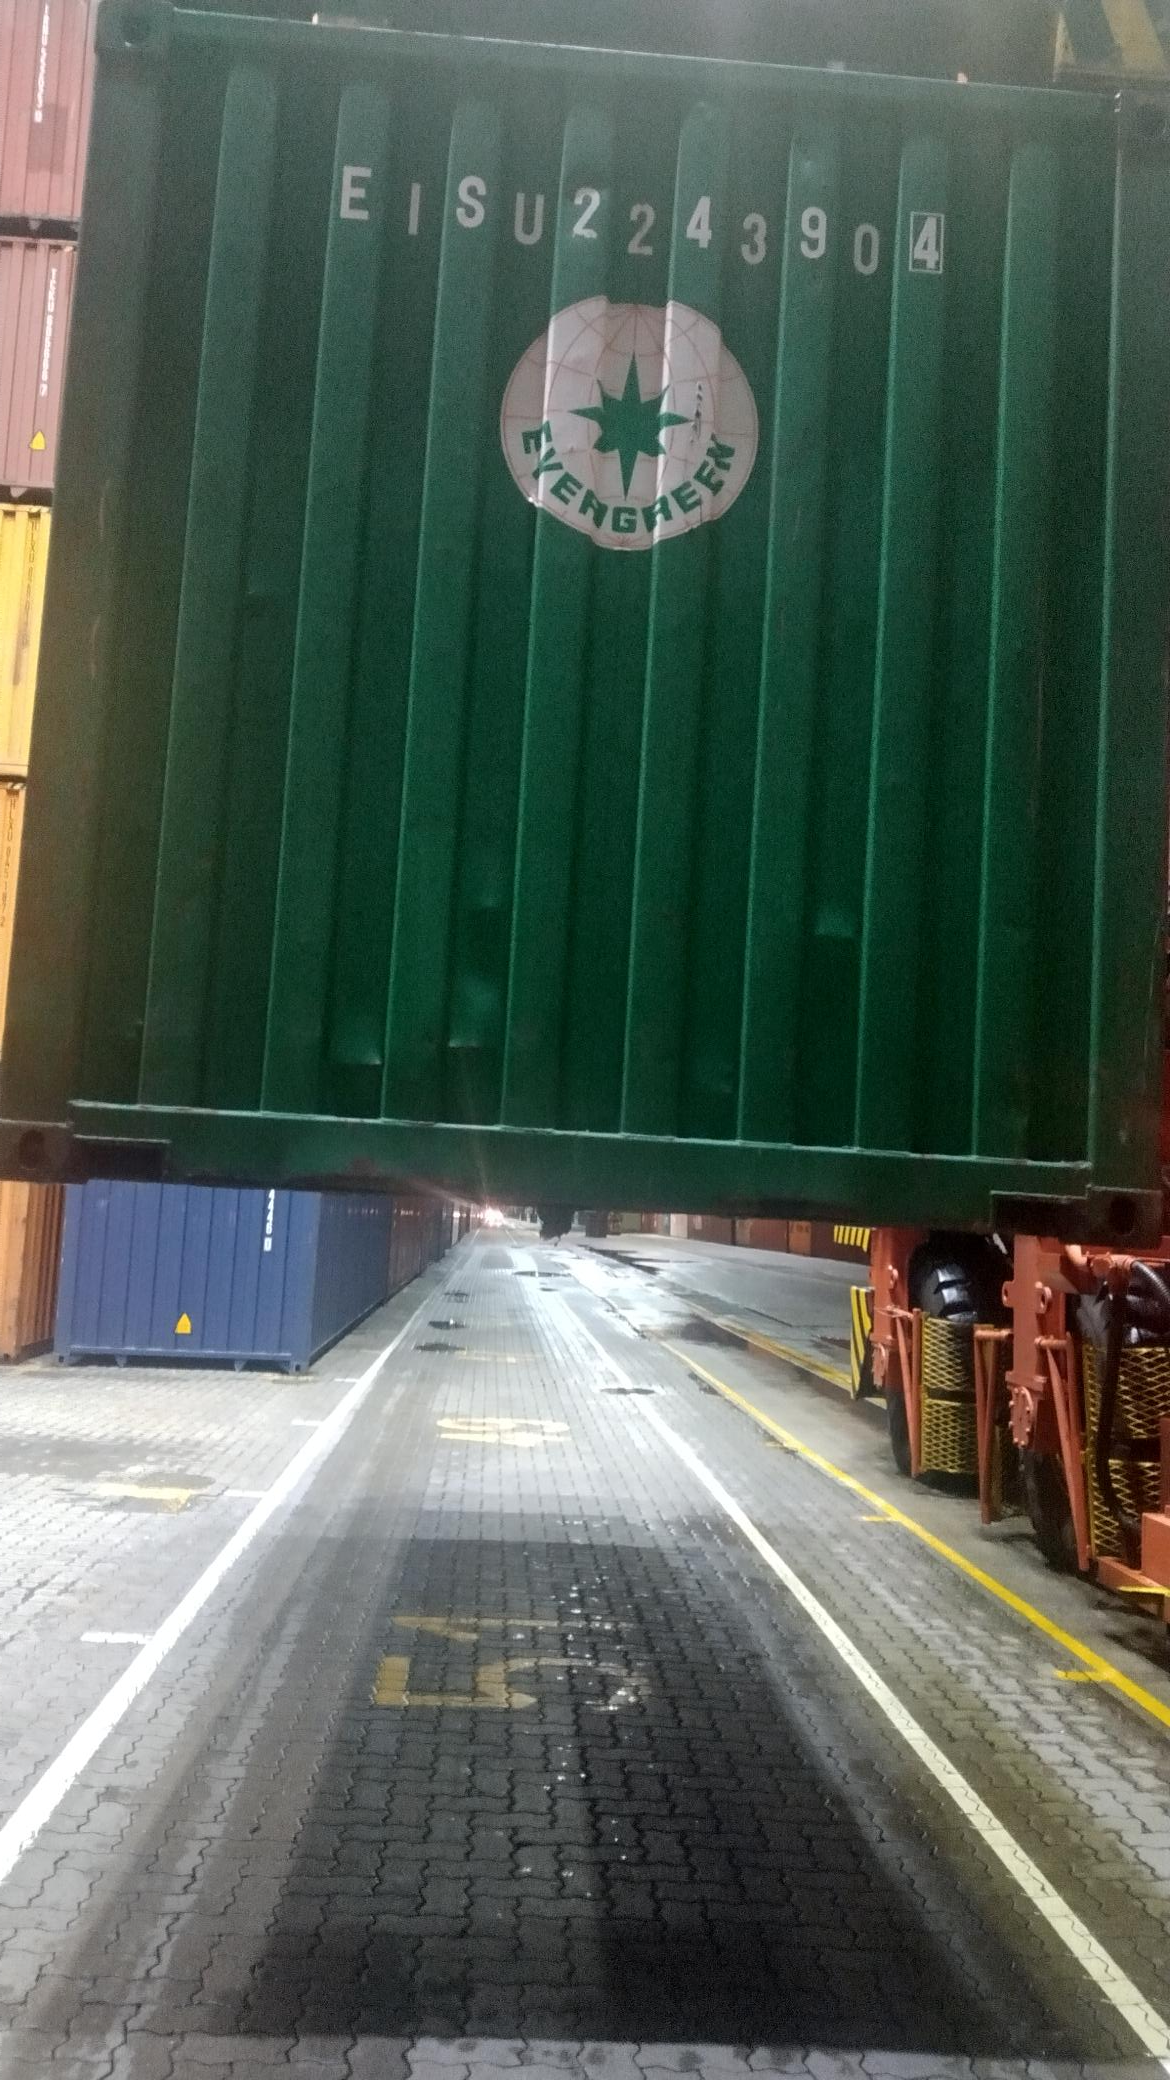dented: (266, 961, 526, 1094), (779, 881, 863, 967)
